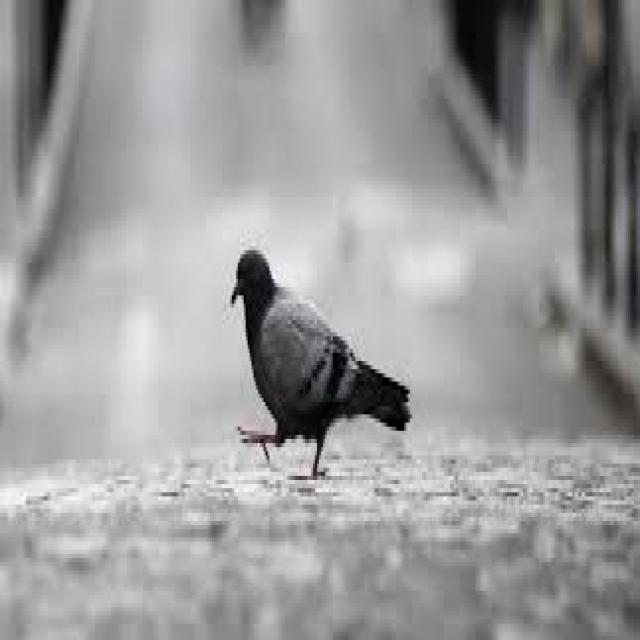pigeon: (226, 233, 419, 489)
